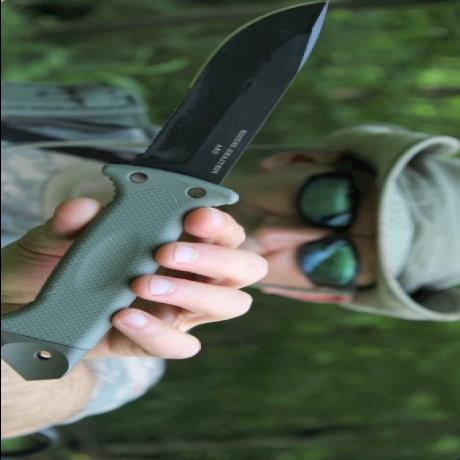1: (0, 82, 460, 438)
weapon: (0, 1, 329, 381)
